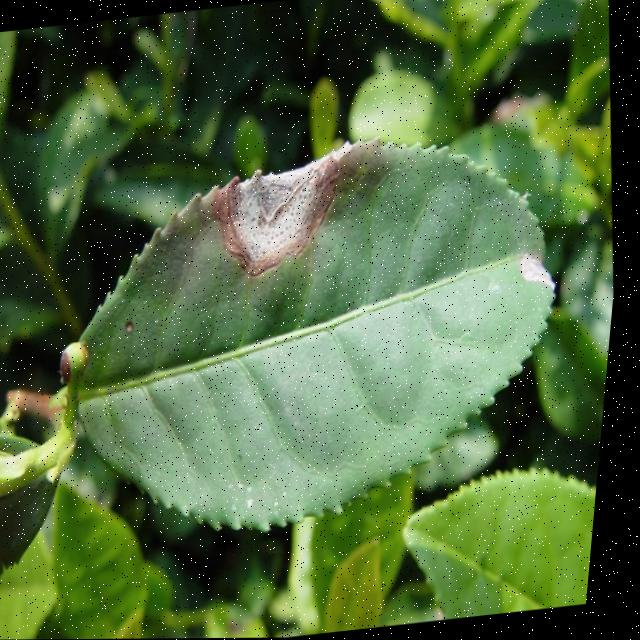Tea cloud leaf blight: (210, 138, 364, 273)
